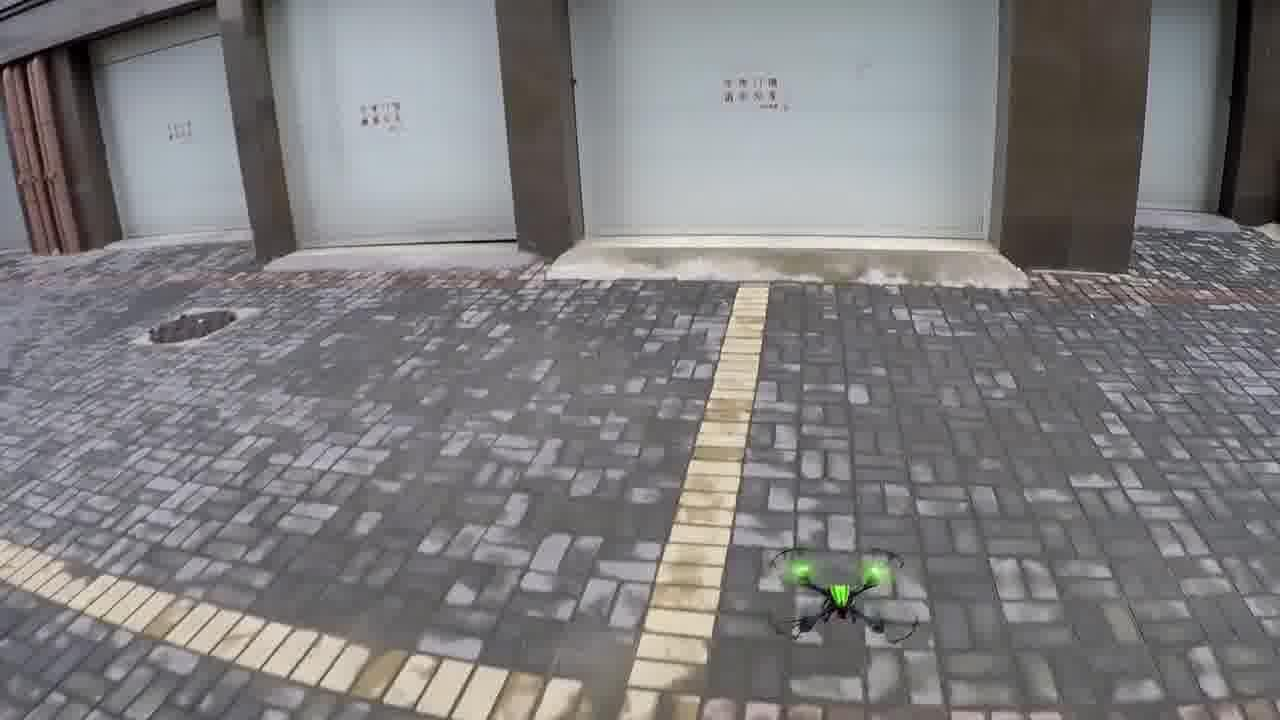drone: (751, 545, 929, 664)
